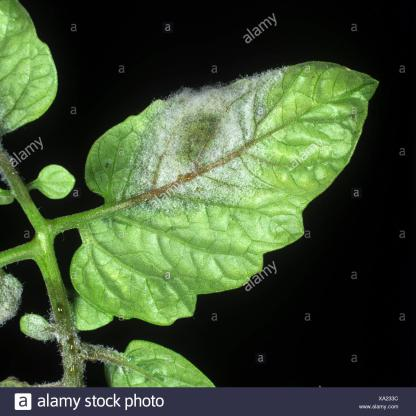tomato leaf late blight: (56, 55, 386, 329)
